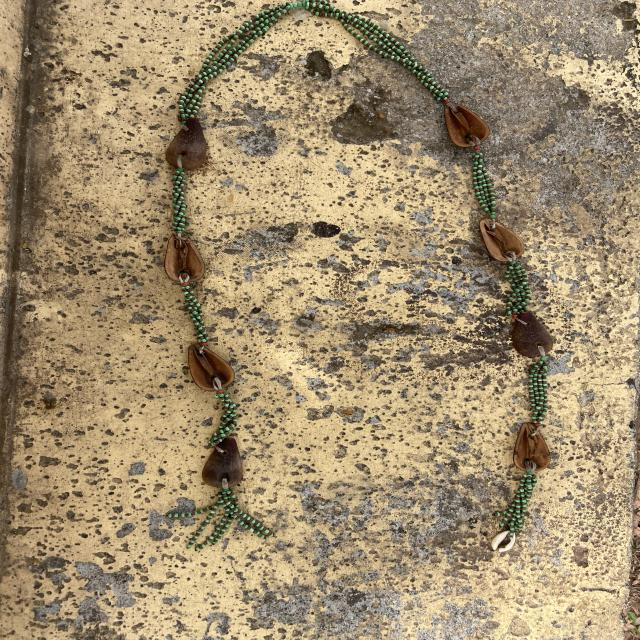facedown: (192, 432, 248, 490), (162, 112, 214, 173), (511, 309, 559, 361)
faceup: (180, 339, 239, 394), (161, 228, 210, 290), (434, 100, 492, 152), (476, 214, 530, 266), (512, 417, 556, 476)
